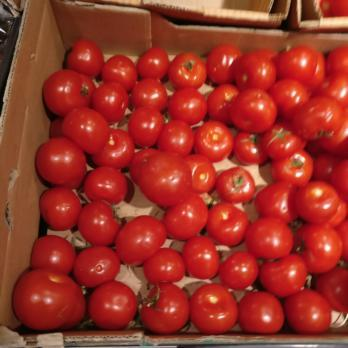Tomato: (53, 57, 337, 329)
